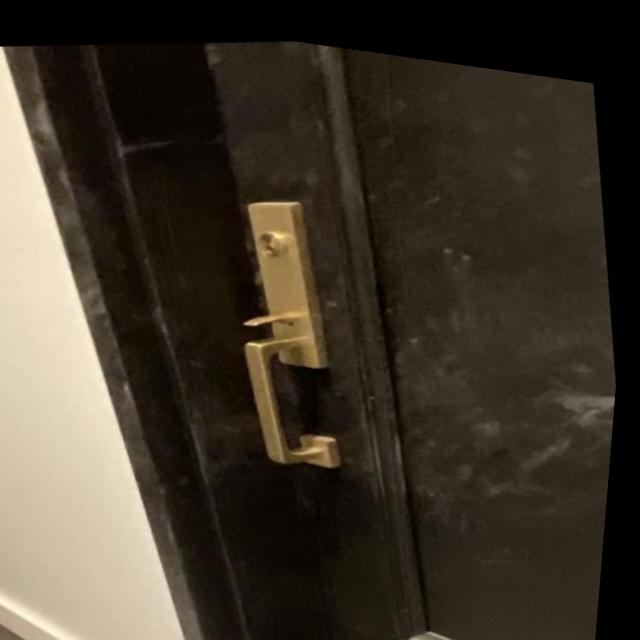door_handle: (218, 305, 377, 481)
